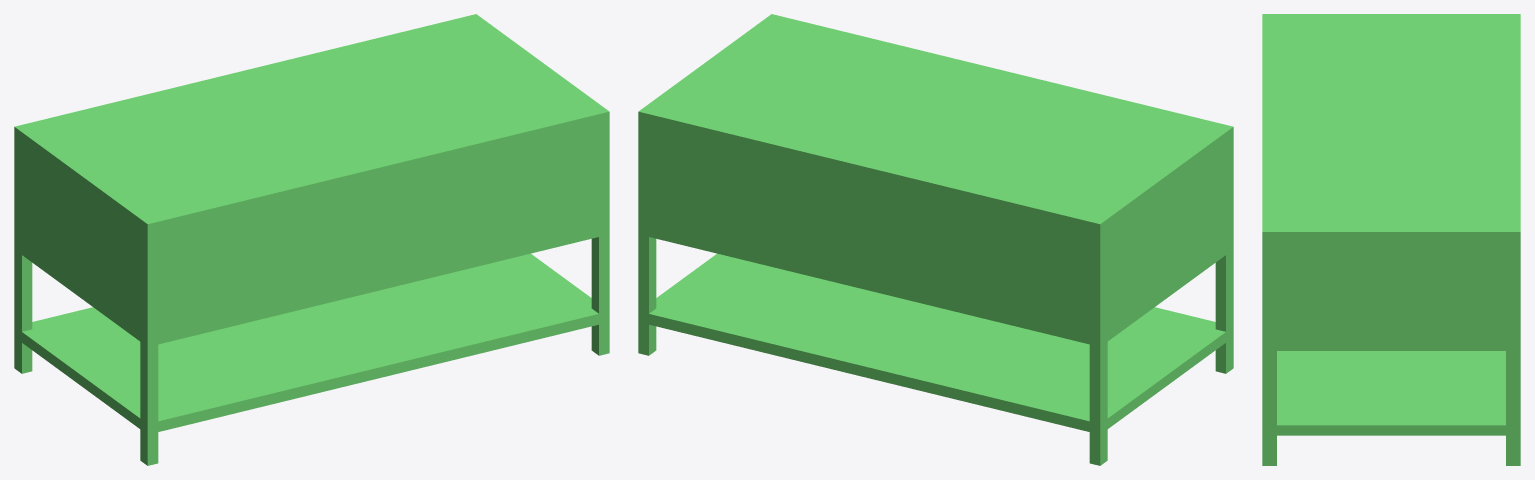
Rendered from Desk_08_B.fbx.
The picture shows the model from 3 angles, left to right: view 1: azimuth 30°, elevation 25°; view 2: azimuth 150°, elevation 25°; view 3: azimuth 270°, elevation 25°; orthographic projection. The views are drawn at different scales.
Parts seen in each view (by area): view 1: Desk_08_B; view 2: Desk_08_B; view 3: Desk_08_B.
Boxes of the visible parts, x1,y1,x2,y2 form: Desk_08_B: (14, 14, 609, 465); Desk_08_B: (638, 14, 1233, 465); Desk_08_B: (1262, 14, 1520, 465).
Size of the model in its own units: 183 by 91.44 by 91.44.
